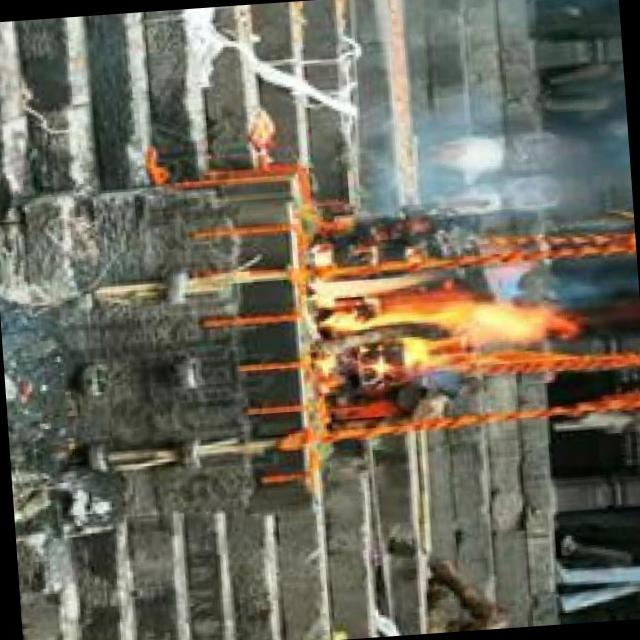Fire: (307, 256, 574, 385)
